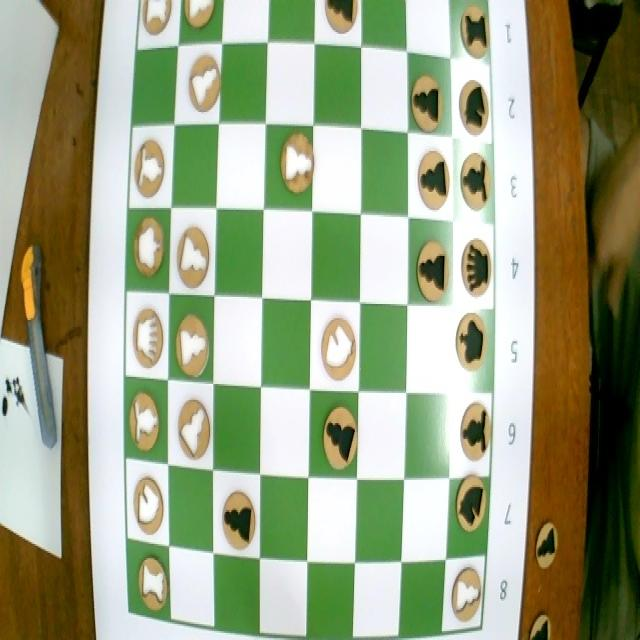chess-pieces: (277, 126, 317, 204), (319, 401, 361, 470), (456, 395, 497, 465), (407, 68, 448, 137), (173, 397, 215, 463), (320, 316, 361, 382), (219, 486, 258, 554), (174, 316, 212, 381), (174, 222, 210, 290), (454, 312, 491, 377), (456, 74, 494, 136), (186, 53, 223, 116), (132, 218, 167, 284), (132, 136, 168, 199), (416, 149, 451, 211), (449, 562, 485, 622), (457, 151, 490, 216), (456, 468, 488, 535), (416, 238, 449, 301), (457, 7, 492, 61), (461, 233, 490, 298), (180, 0, 220, 40), (324, 0, 363, 37), (140, 0, 175, 39)
